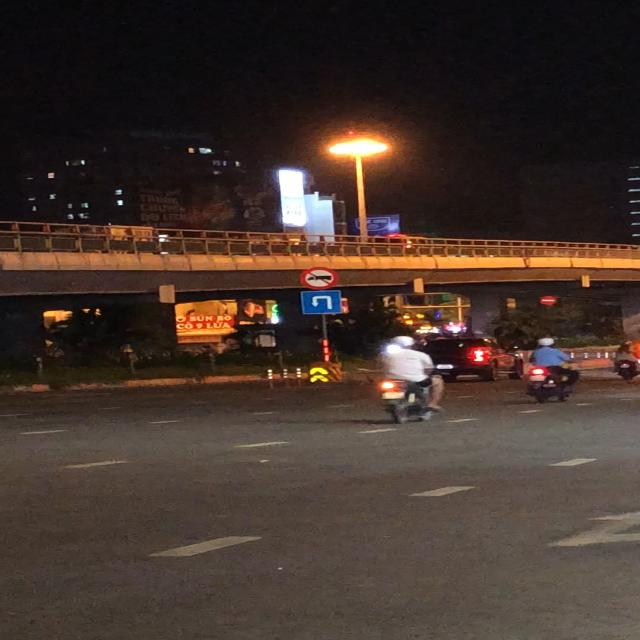Bien bao cam xe so-mi ro-mooc: (298, 266, 340, 290)
